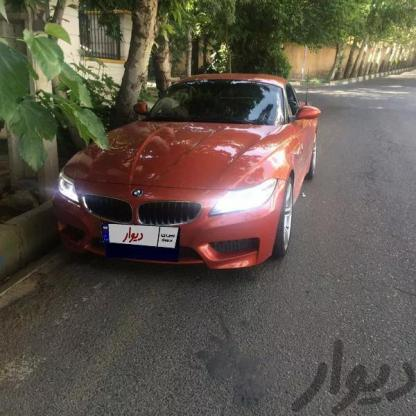Car: (43, 69, 329, 300)
